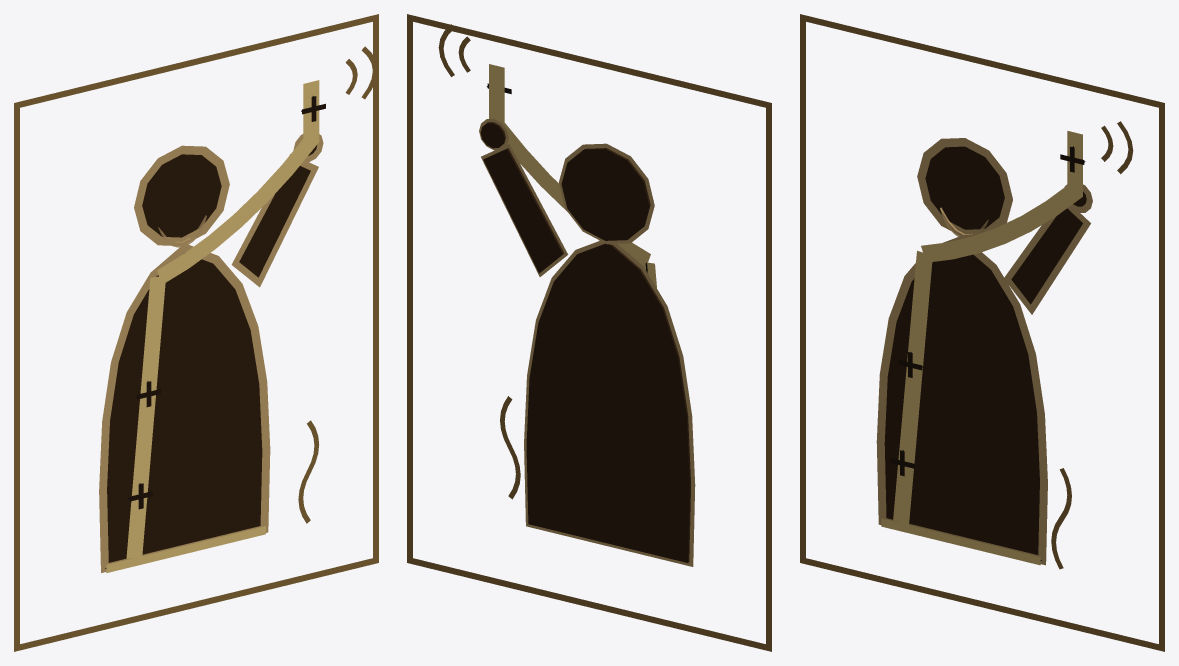
The model's file is player-deacon-orarion.glb.
The picture shows the model from 3 angles, left to right: view 1: azimuth 30°, elevation 25°; view 2: azimuth 150°, elevation 25°; view 3: azimuth 330°, elevation 25°; orthographic projection.
Visible parts, largest first — view 1: player-deacon-orarion; view 2: player-deacon-orarion; view 3: player-deacon-orarion.
Boxes of the visible parts, x1=… form: player-deacon-orarion: x1=14, y1=14, x2=378, y2=651; player-deacon-orarion: x1=407, y1=14, x2=771, y2=651; player-deacon-orarion: x1=800, y1=14, x2=1164, y2=651.
Size of the model in its own units: 0.2614 by 0.3757 by 0.0207.
